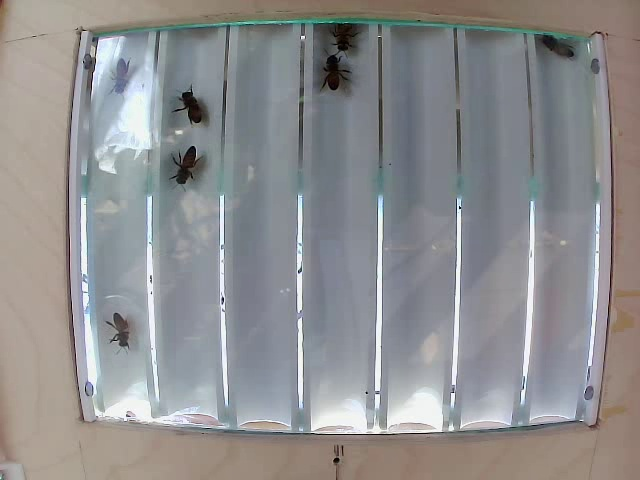bee: (169, 75, 222, 131), (89, 55, 151, 102), (97, 315, 152, 361), (159, 139, 212, 186), (527, 27, 575, 77), (320, 52, 361, 99), (330, 19, 371, 59)
